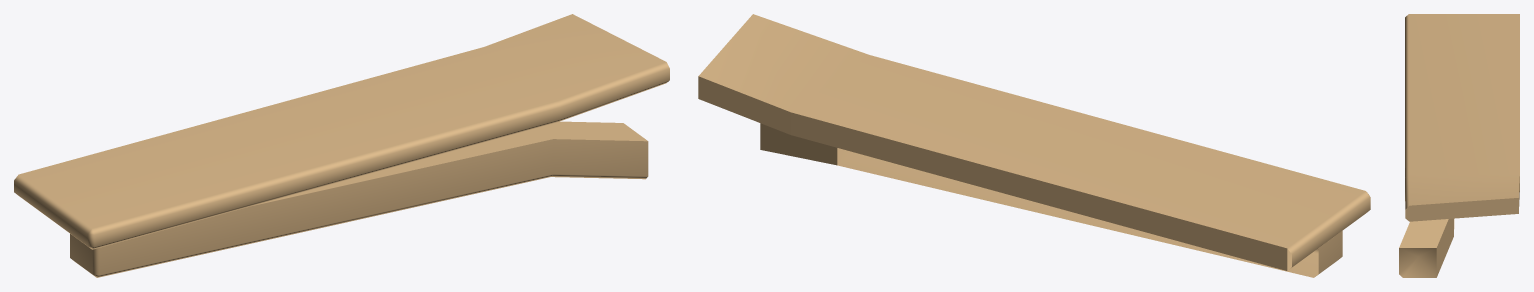
Rendered from DBK_WinBig_Trim_E_End.fbx.
3 renders of one model, left to right at view 1: azimuth 30°, elevation 25°; view 2: azimuth 150°, elevation 25°; view 3: azimuth 270°, elevation 25°, orthographic. The views are drawn at different scales.
Parts seen in each view (by area): view 1: DBK_WinBig_Trim_E_End; view 2: DBK_WinBig_Trim_E_End; view 3: DBK_WinBig_Trim_E_End.
Part boxes in pixels (x1,y1,x2,y2): DBK_WinBig_Trim_E_End: (14,14,669,277); DBK_WinBig_Trim_E_End: (698,14,1370,277); DBK_WinBig_Trim_E_End: (1399,14,1519,277).
Bounding box in the file's own units: 117 × 20.77 × 27.9.
